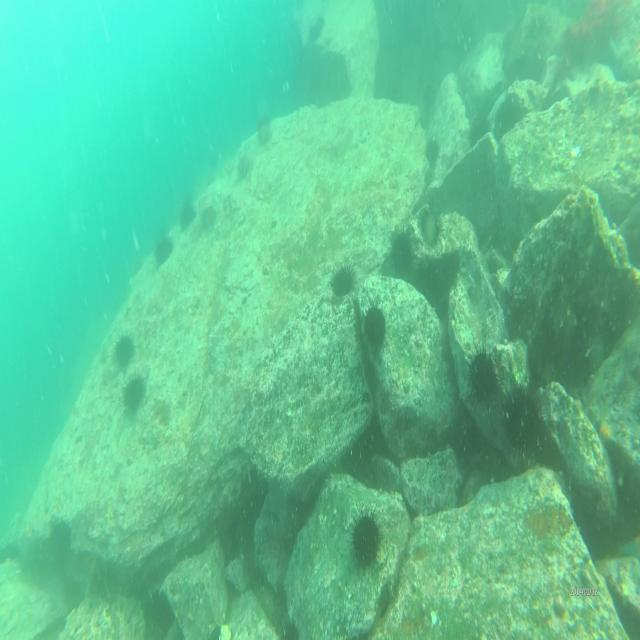echinus: (504, 390, 538, 462), (472, 344, 500, 412), (360, 305, 391, 359), (350, 516, 380, 563), (118, 374, 147, 408), (329, 264, 355, 294), (467, 113, 495, 140), (197, 198, 214, 238), (152, 231, 171, 262), (114, 334, 133, 365), (423, 137, 442, 164), (179, 203, 195, 234)
starfish: (622, 526, 640, 566), (596, 414, 620, 444)
